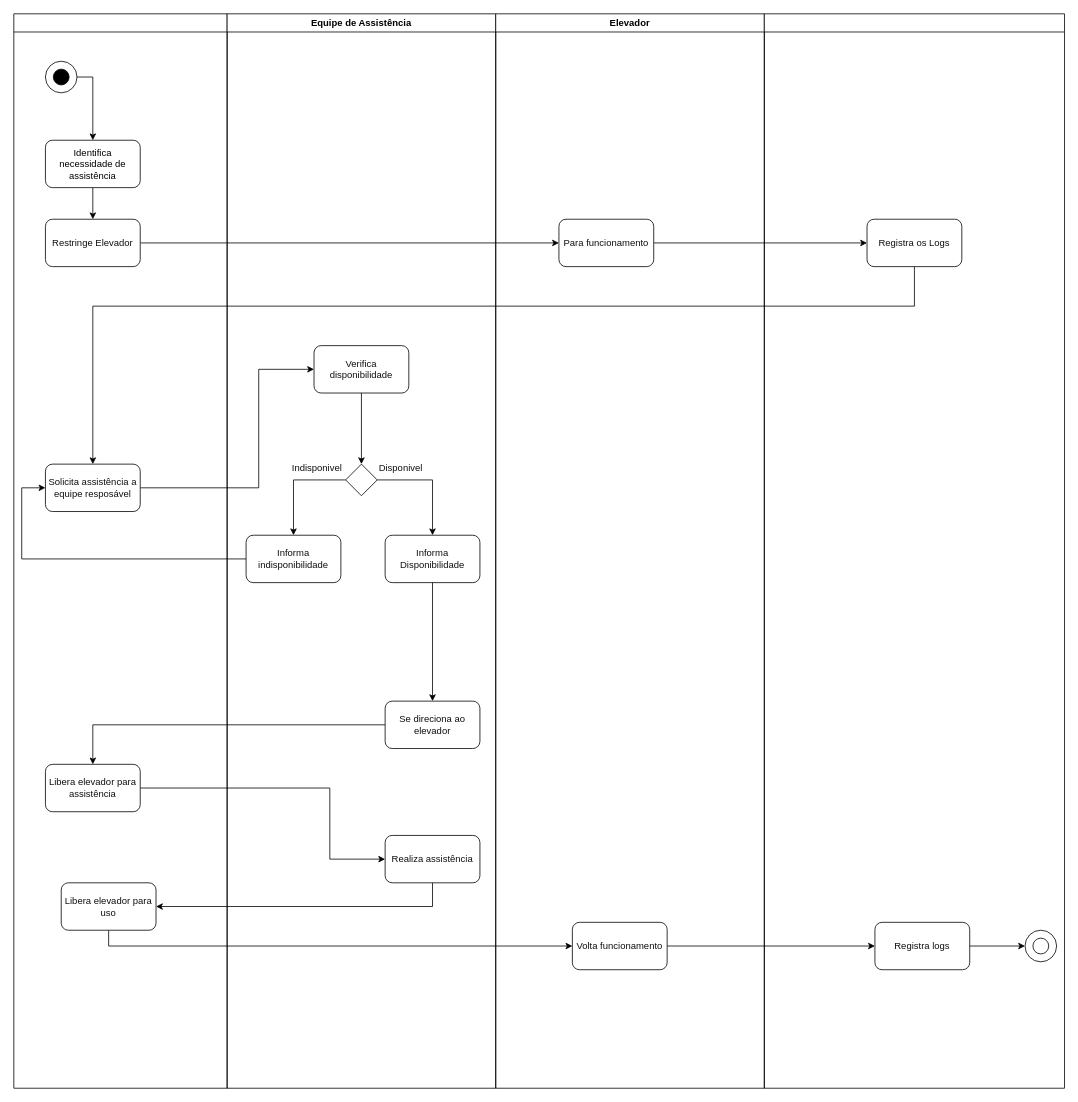
This 1078x1102 diagram has some shape labels left out. Here are the shapes that lost their labels. From the top down, the centre of each, then its label:
the point at 120,550: Usuário Master/Controlador
the point at 914,550: Sala de Comando
